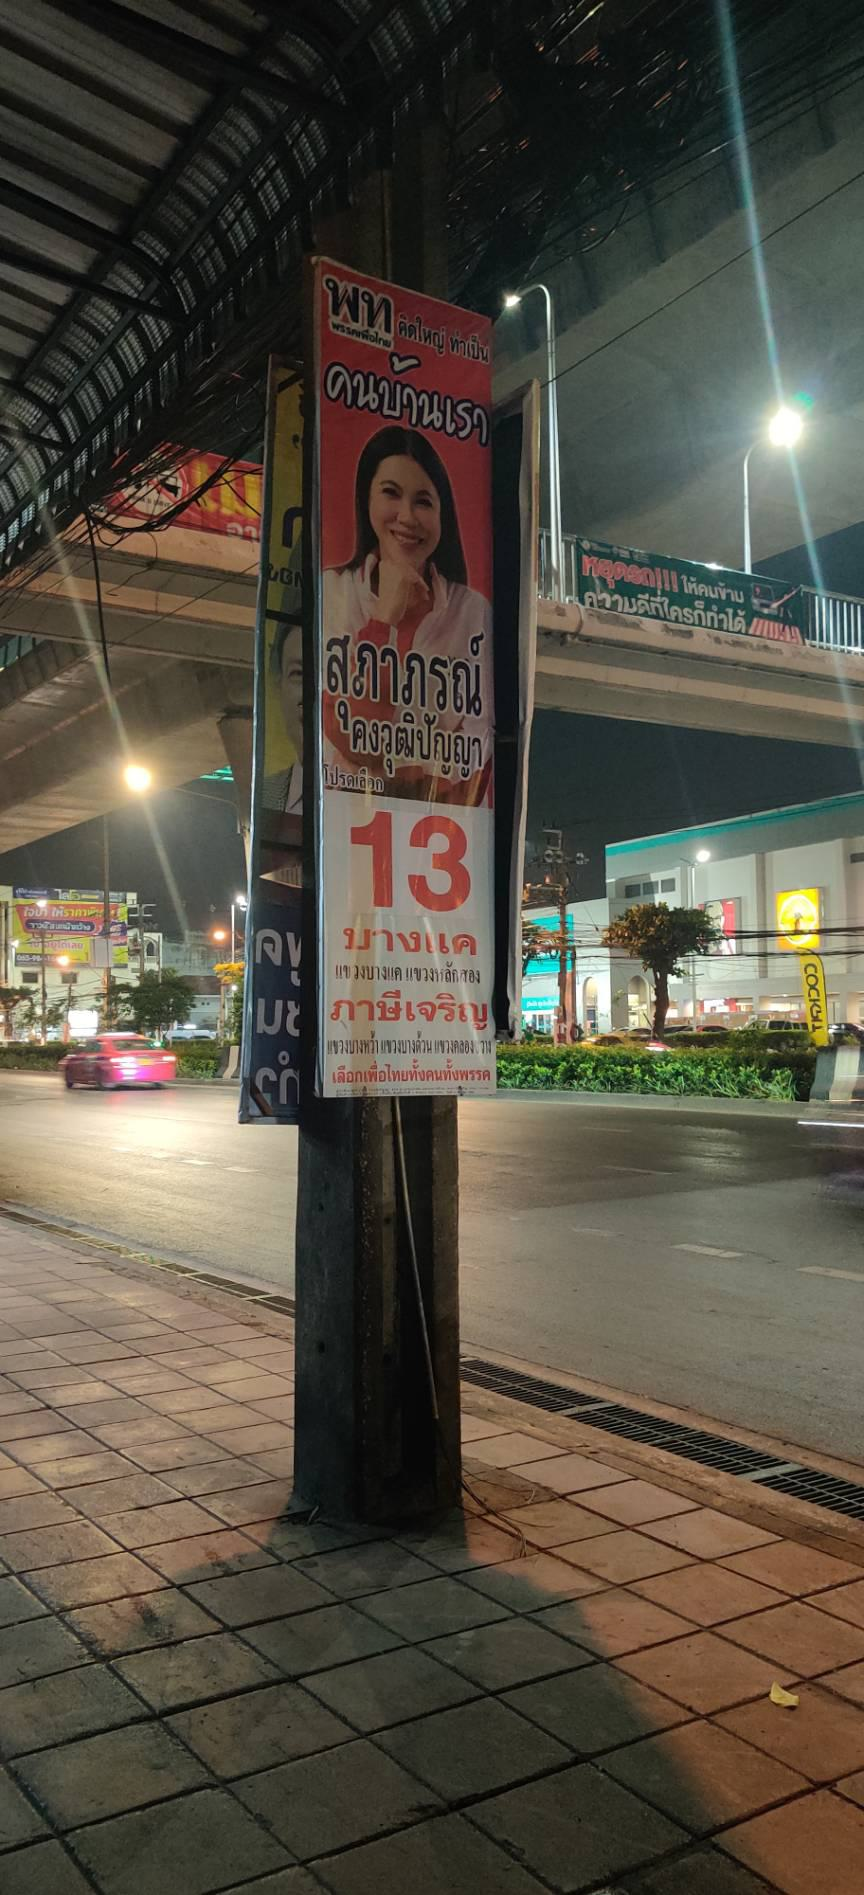Banner: (297, 250, 530, 1093)
